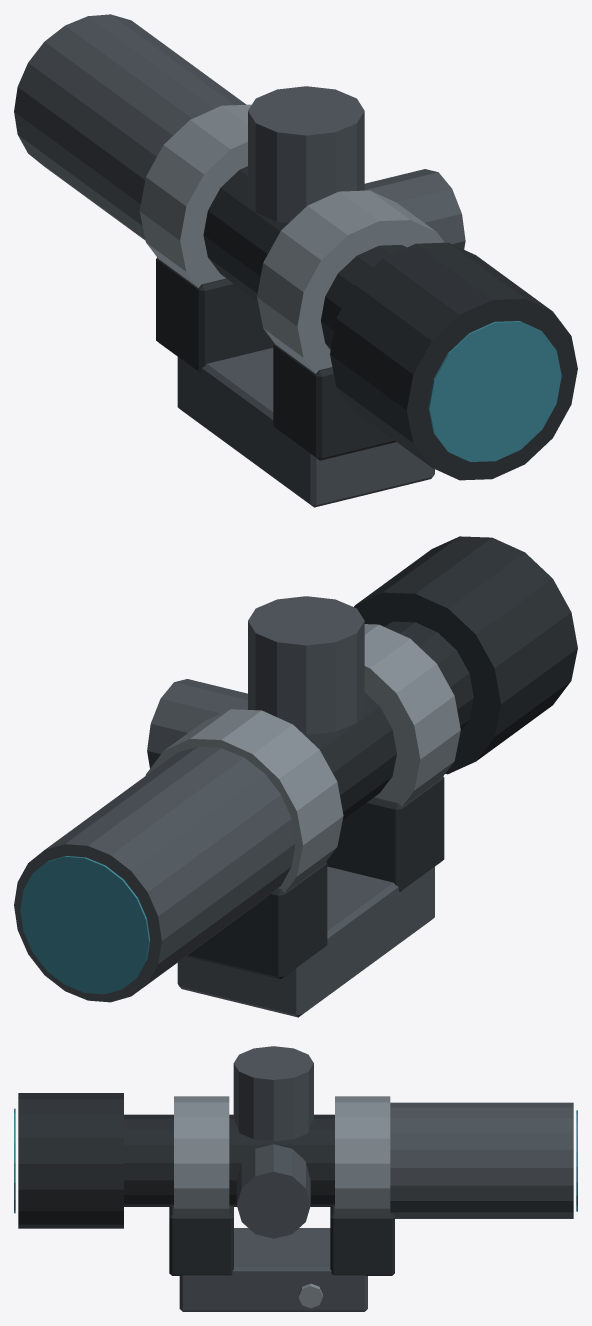
File: att_optic_scope2.glb
3 renders of one model, top to bottom at view 1: azimuth 30°, elevation 25°; view 2: azimuth 150°, elevation 25°; view 3: azimuth 270°, elevation 25°, orthographic. The views are drawn at different scales.
Parts seen in each view (by area): view 1: Geometry_att_optic_scope2; view 2: Geometry_att_optic_scope2; view 3: Geometry_att_optic_scope2.
Part boxes in pixels (box(x1,y1,x2,y2)): Geometry_att_optic_scope2: box(14, 14, 577, 507); Geometry_att_optic_scope2: box(14, 536, 577, 1017); Geometry_att_optic_scope2: box(14, 1046, 577, 1311).
Size of the model in its own units: 0.056 by 0.082 by 0.1829.
